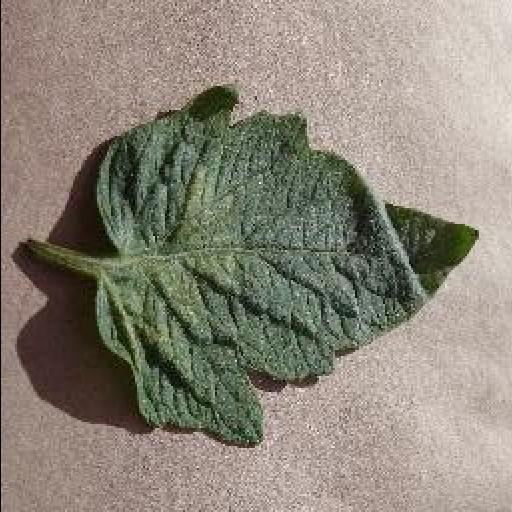disease_tomato: (92, 87, 482, 445)
